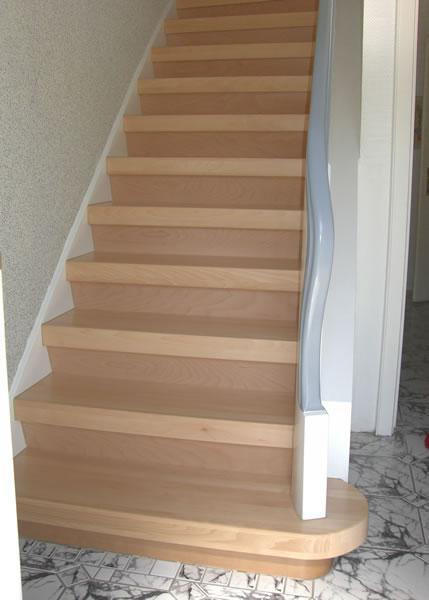Escaleras: (14, 8, 338, 557)
